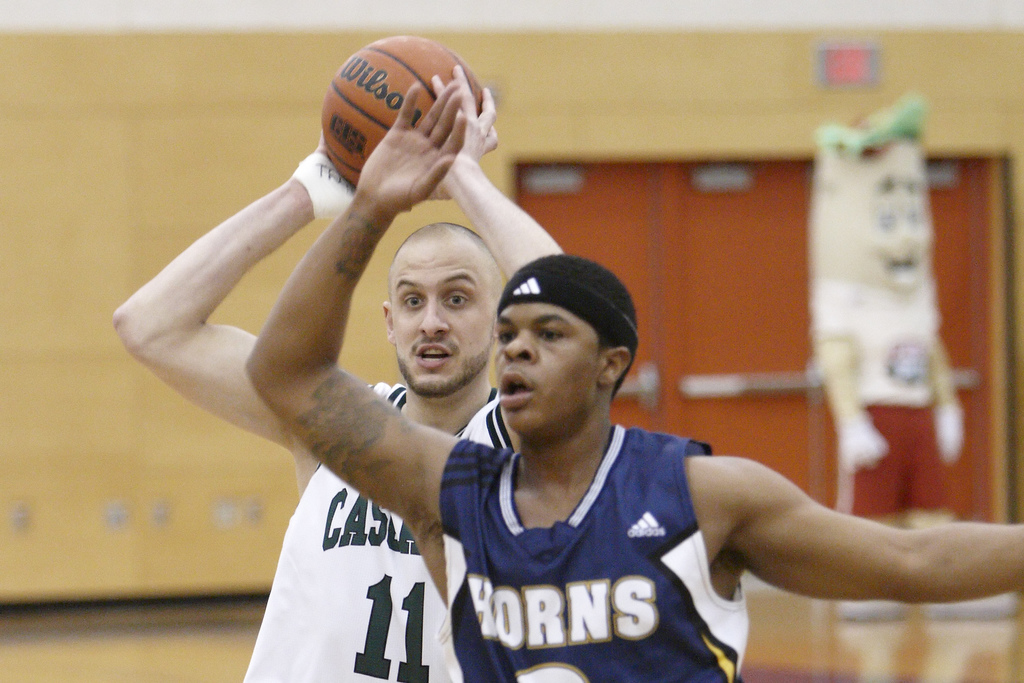Ball: (322, 33, 487, 187)
